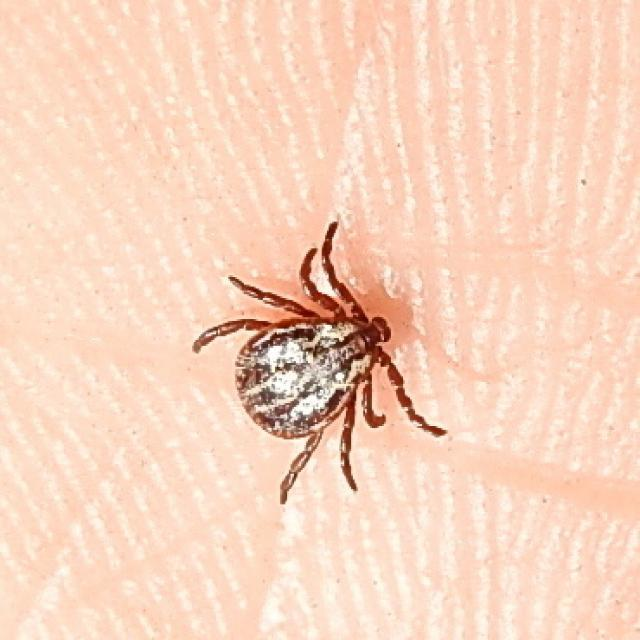Dermacentor Reticulatus-M: (192, 222, 448, 504)
